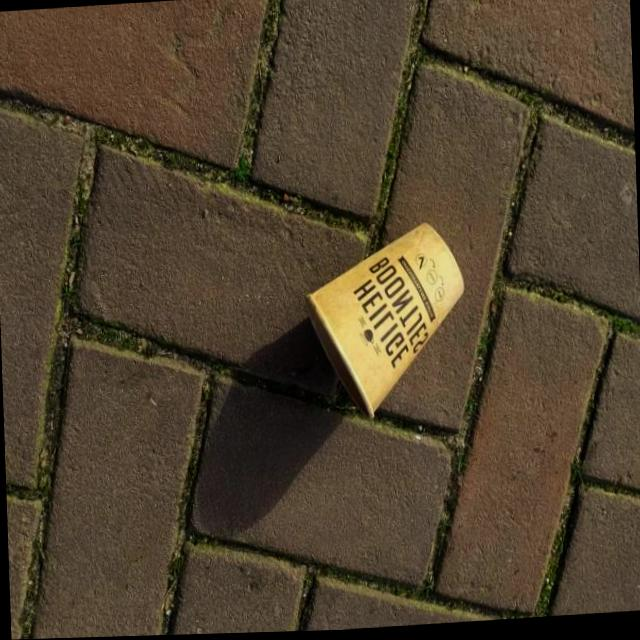Cup: (301, 221, 470, 428)
